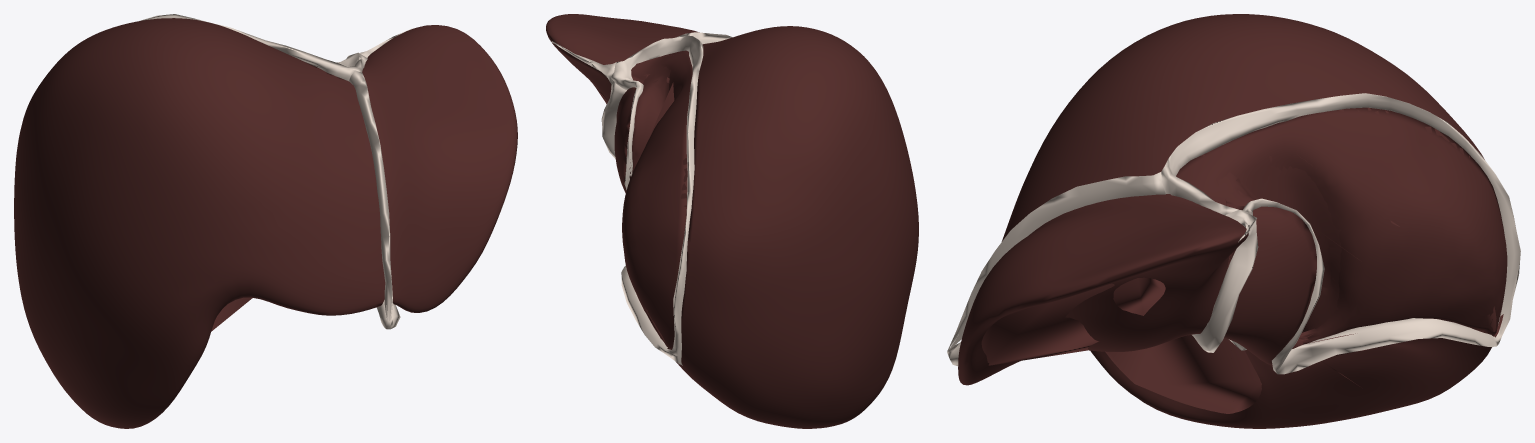
The picture shows the model from 3 angles, left to right: view 1: azimuth 30°, elevation 25°; view 2: azimuth 150°, elevation 25°; view 3: azimuth 270°, elevation 25°; orthographic projection. The views are drawn at different scales.
Parts seen in each view (by area): view 1: VH_M_liver_capsule, VH_M_falciform_ligament, VH_M_coronary_ligament_of_liver; view 2: VH_M_liver_capsule, VH_M_bare_area_of_liver, VH_M_coronary_ligament_of_liver, VH_M_caudate_lobe_of_liver, VH_M_ligamentum_venosum, VH_M_right_posterosuperior_segment, VH_M_diaphragmatic_surface, VH_M_triangular_ligament_of_liver; view 3: VH_M_liver_capsule, VH_M_bare_area_of_liver, VH_M_coronary_ligament_of_liver, VH_M_colic_impression_of_liver, VH_M_gastric_impression_of_liver, VH_M_caudate_lobe_of_liver, VH_M_falciform_ligament, VH_M_ligamentum_venosum, VH_M_diaphragmatic_surface, VH_M_right_posterosuperior_segment.
Boxes of the visible parts, left/top/right/bottom form: VH_M_liver_capsule: left=14, top=18, right=517, bottom=428; VH_M_falciform_ligament: left=349, top=70, right=392, bottom=320; VH_M_coronary_ligament_of_liver: left=140, top=14, right=367, bottom=81; VH_M_liver_capsule: left=546, top=14, right=918, bottom=428; VH_M_bare_area_of_liver: left=622, top=50, right=692, bottom=347; VH_M_coronary_ligament_of_liver: left=610, top=35, right=703, bottom=365; VH_M_caudate_lobe_of_liver: left=632, top=54, right=688, bottom=125; VH_M_ligamentum_venosum: left=601, top=81, right=626, bottom=158; VH_M_right_posterosuperior_segment: left=627, top=118, right=687, bottom=311; VH_M_diaphragmatic_surface: left=632, top=74, right=674, bottom=342; VH_M_triangular_ligament_of_liver: left=551, top=41, right=616, bottom=83; VH_M_liver_capsule: left=958, top=14, right=1503, bottom=428; VH_M_bare_area_of_liver: left=1176, top=107, right=1507, bottom=345; VH_M_coronary_ligament_of_liver: left=1161, top=93, right=1520, bottom=374; VH_M_colic_impression_of_liver: left=1105, top=335, right=1261, bottom=413; VH_M_gastric_impression_of_liver: left=981, top=277, right=1165, bottom=365; VH_M_caudate_lobe_of_liver: left=1190, top=151, right=1341, bottom=348; VH_M_falciform_ligament: left=947, top=172, right=1165, bottom=351; VH_M_ligamentum_venosum: left=1192, top=220, right=1258, bottom=352; VH_M_diaphragmatic_surface: left=1225, top=157, right=1496, bottom=345; VH_M_right_posterosuperior_segment: left=1339, top=107, right=1499, bottom=308.
Bounding box in the file's own units: 0.1914 × 0.1746 × 0.2018.
